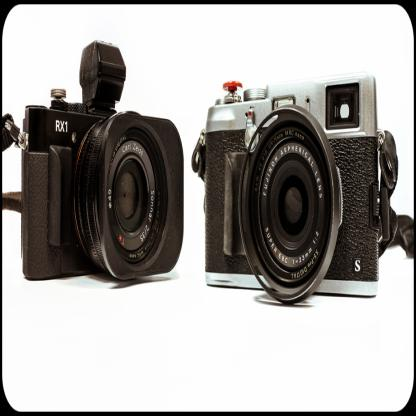Camera: (195, 67, 404, 301), (21, 40, 186, 280)
